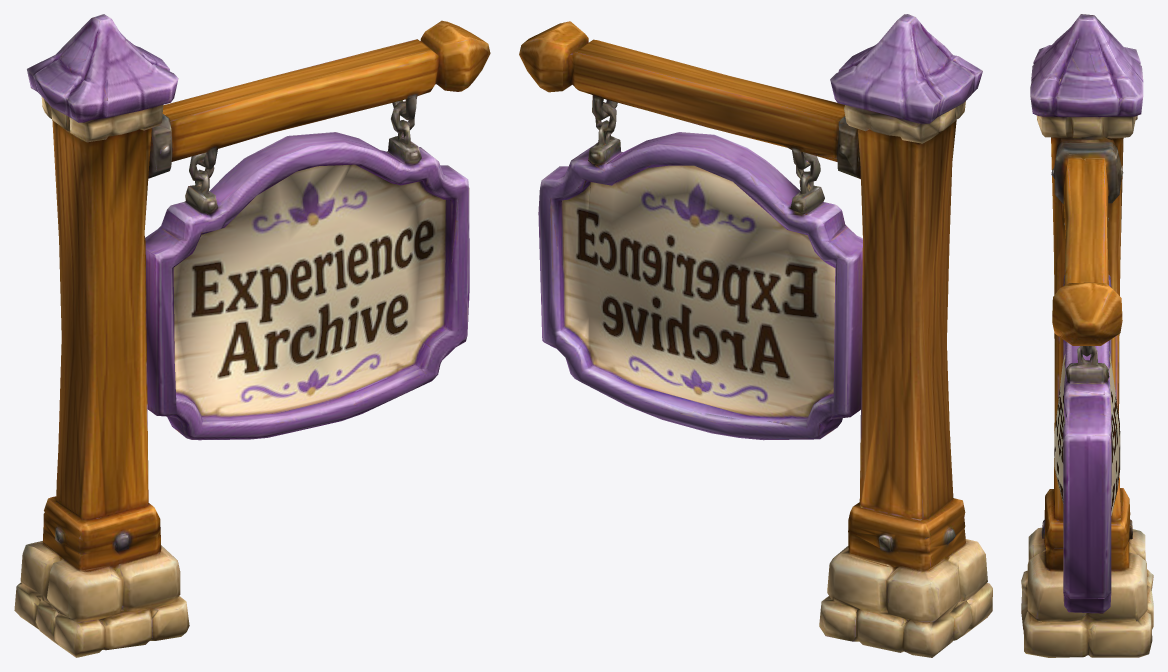
The model's file is sign-experience.glb.
3 renders of one model, left to right at view 1: azimuth 30°, elevation 25°; view 2: azimuth 150°, elevation 25°; view 3: azimuth 270°, elevation 25°, orthographic.
Parts seen in each view (by area): view 1: Mesh1.0; view 2: Mesh1.0; view 3: Mesh1.0.
Boxes of the visible parts, x1,y1,x2,y2 form: Mesh1.0: [14, 14, 490, 657]; Mesh1.0: [519, 14, 992, 657]; Mesh1.0: [1021, 14, 1153, 657].
Size of the model in its own units: 1.44 by 1.9 by 0.3716.
Materials: 1 (1 with a texture image).
